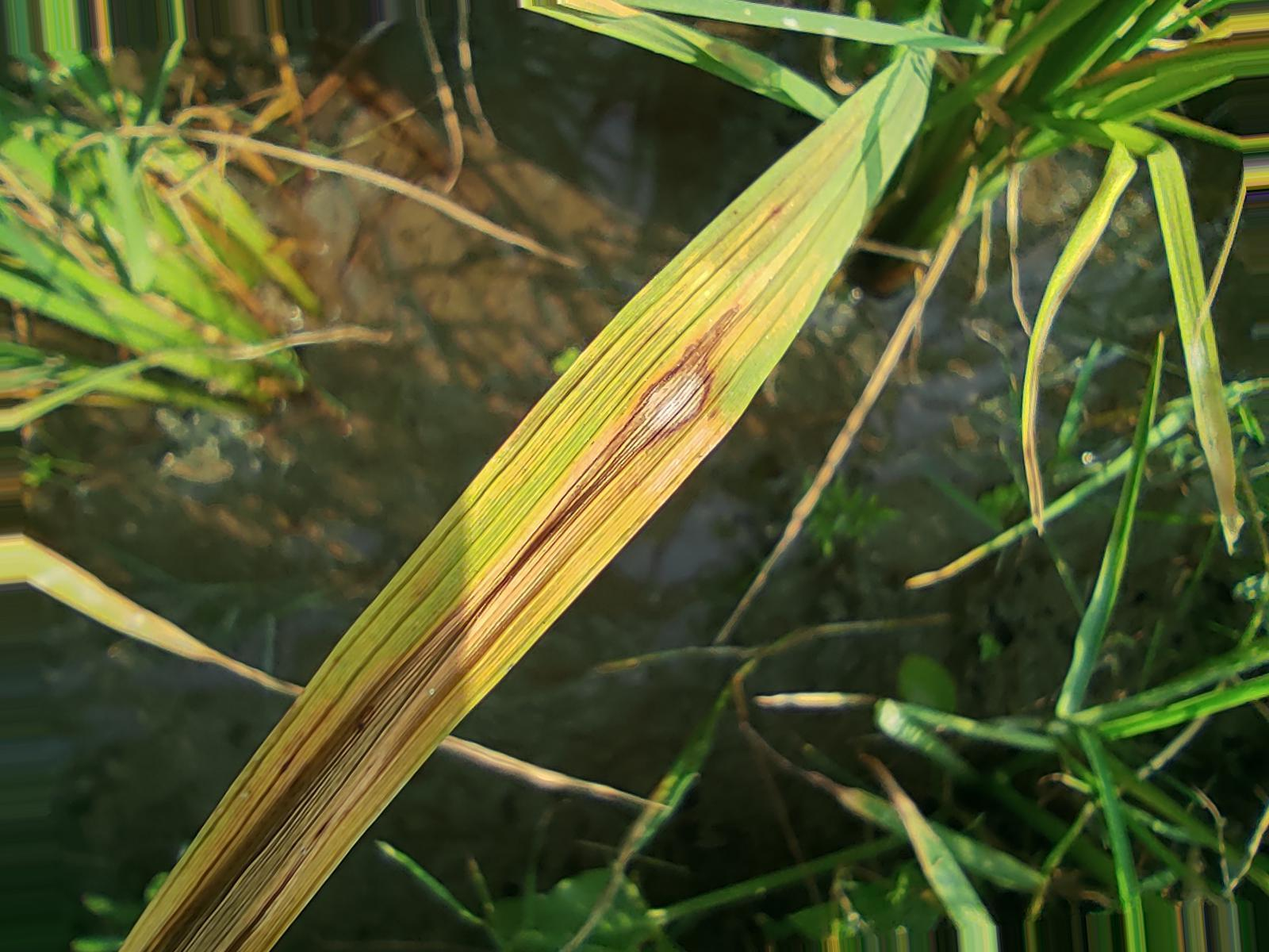LEAF: (121, 54, 930, 951)
LEAF BLAST: (492, 306, 743, 597)
